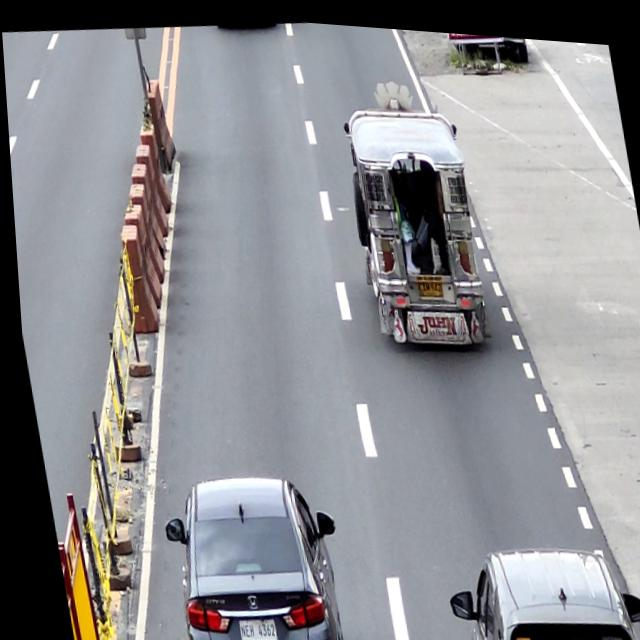Car: (149, 458, 349, 640), (434, 526, 640, 640)
Jeep: (333, 90, 490, 350)
License-Plate: (228, 612, 269, 640), (413, 274, 441, 293)
